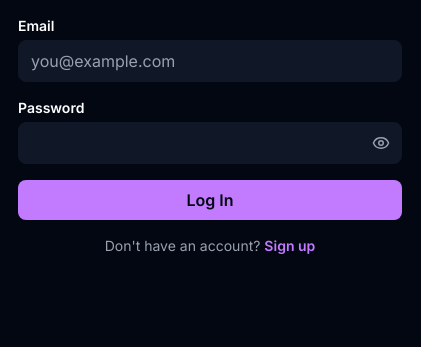
Test: LoginForm › clears the error when the user types again
Step 1. Type "fox@heist.io" into the field labelled "Email" → coordinates (210, 61), box [18, 40, 402, 82]
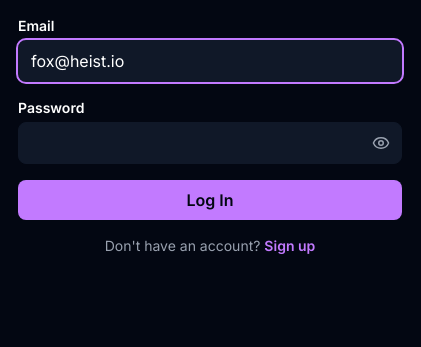
Step 2. Type "secret123" into the password field labelled "Password" → coordinates (210, 143), box [18, 122, 402, 164]
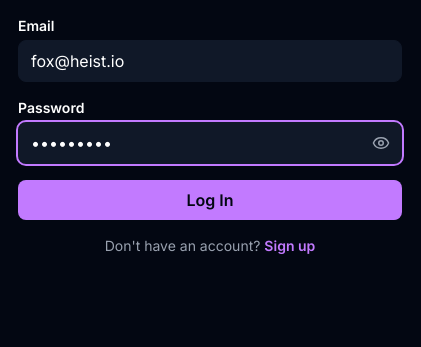
Step 3. Click the button "Log In" → coordinates (210, 200), box [18, 180, 402, 220]
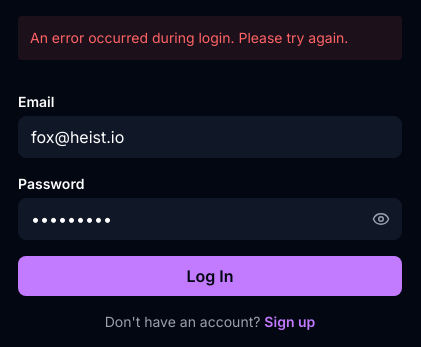
Now the message "An error occurred during login. Please try again." is shown, box [18, 16, 402, 60]
Step 4. Type "4" into the password field labelled "Password" → coordinates (210, 219), box [18, 198, 402, 240]
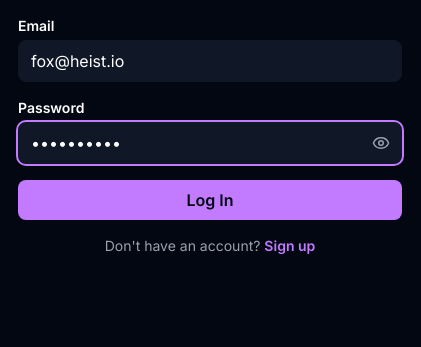
Now the message "An error occurred during login. Please try again." is gone
